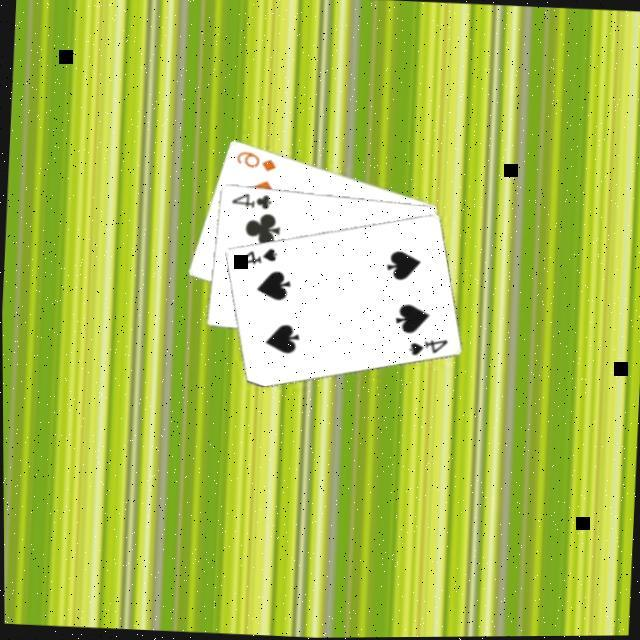4C: (226, 190, 273, 214)
4S: (233, 245, 279, 271), (402, 336, 448, 362)
6D: (231, 149, 278, 176)
